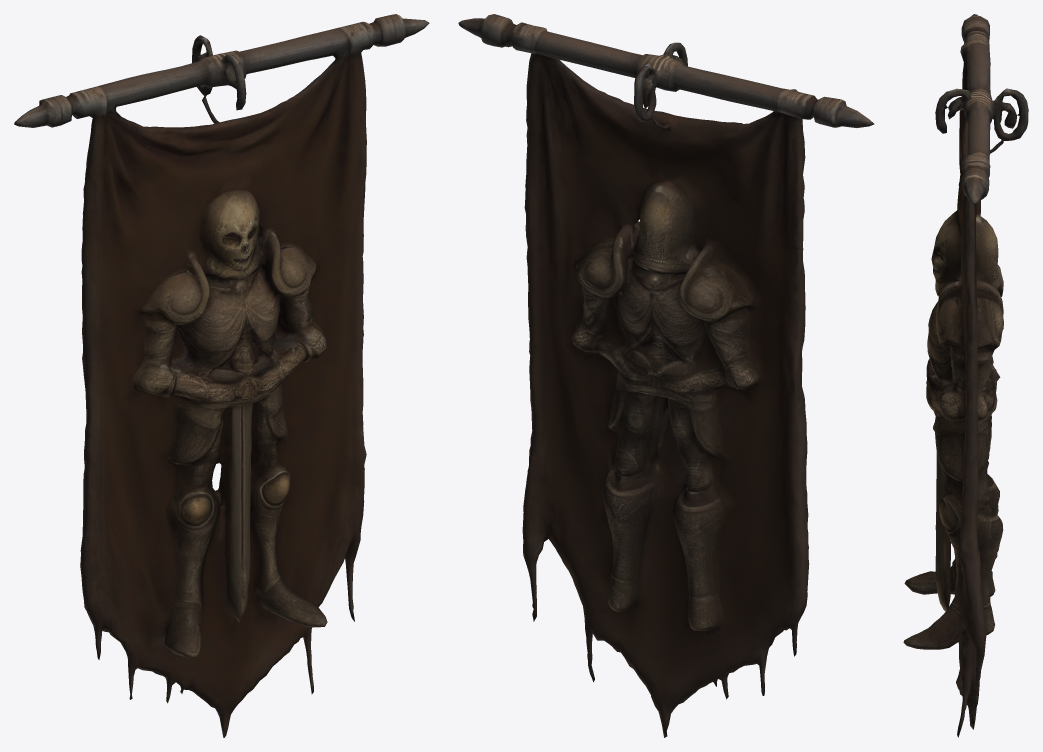
File: boss_banner_large.glb
3 renders of one model, left to right at view 1: azimuth 30°, elevation 25°; view 2: azimuth 150°, elevation 25°; view 3: azimuth 270°, elevation 25°, orthographic. The views are drawn at different scales.
Size of the model in its own units: 1.26 by 2 by 0.354.
Materials: 1 (1 with a texture image).
